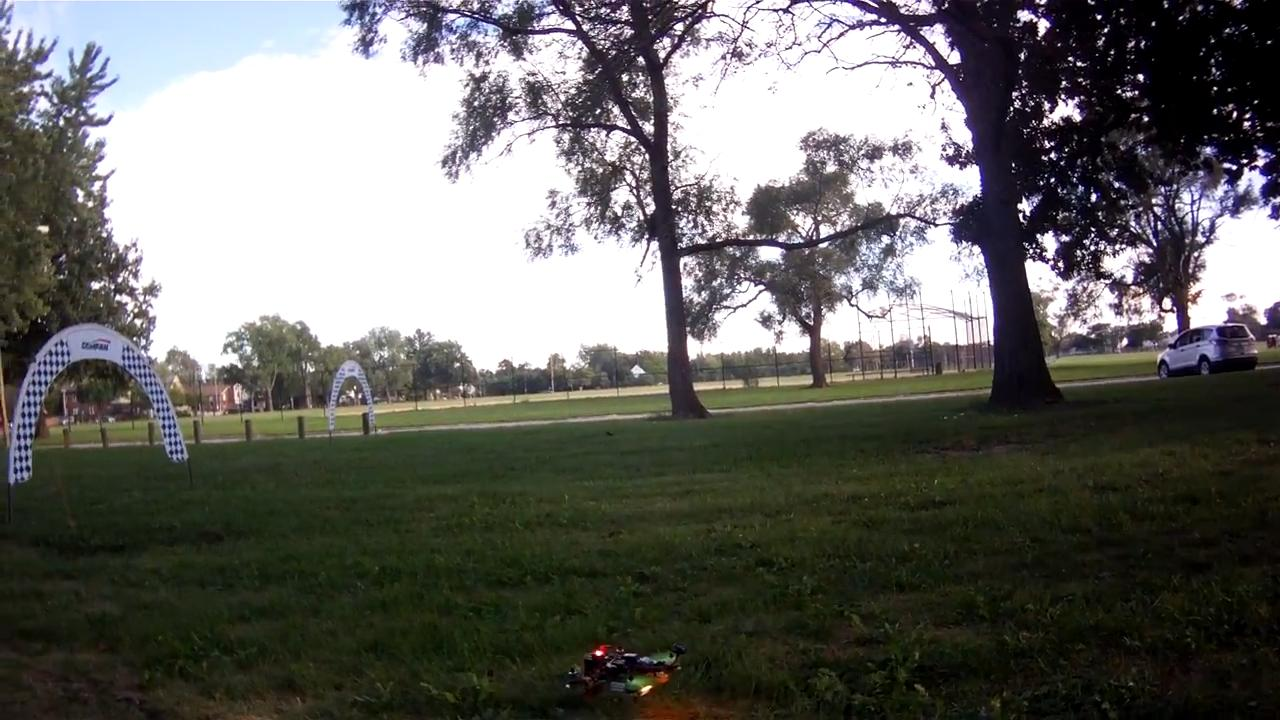gate: (3, 318, 189, 486), (324, 357, 376, 434)
